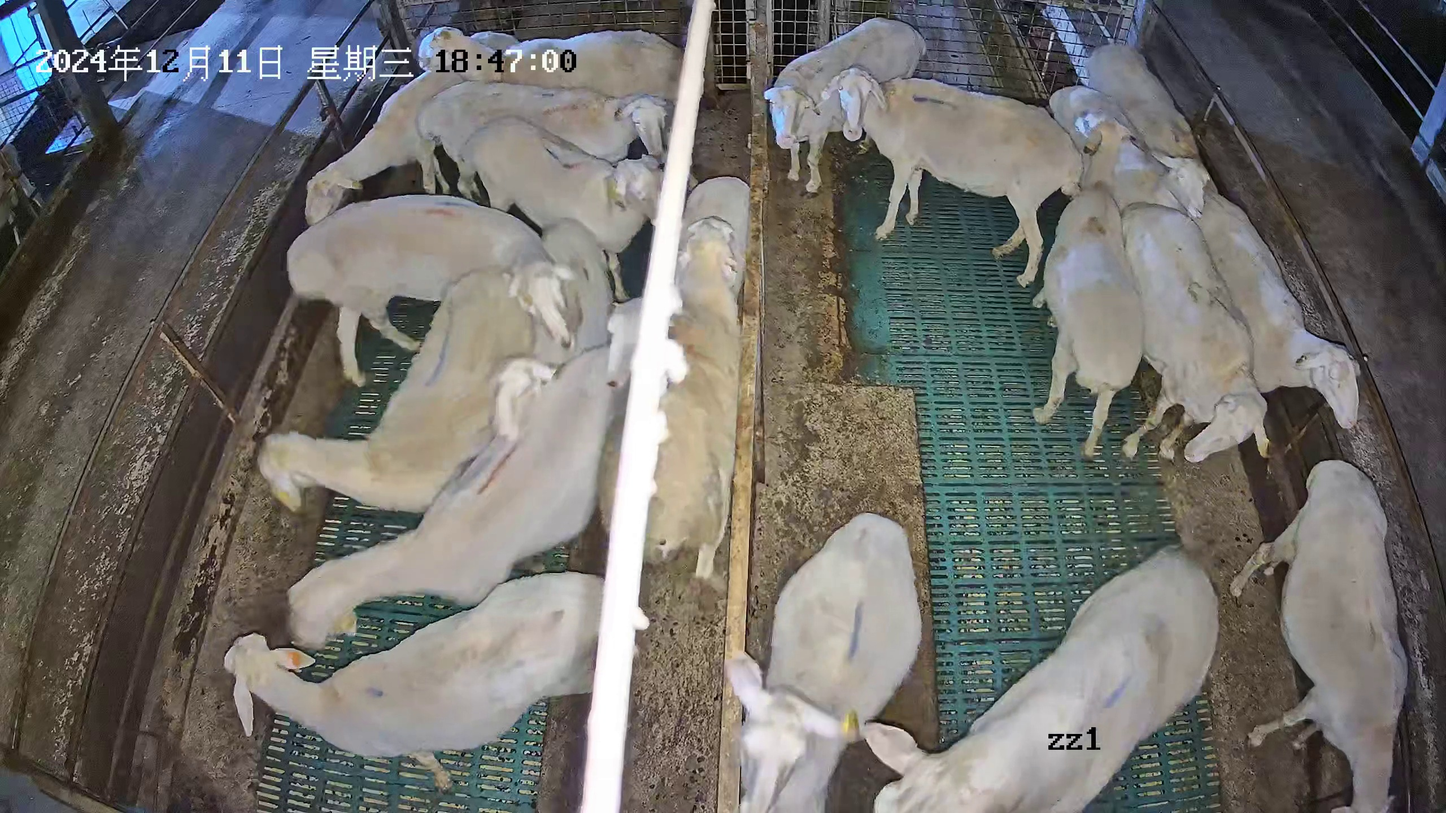Smounting: (860, 545, 1222, 813)
